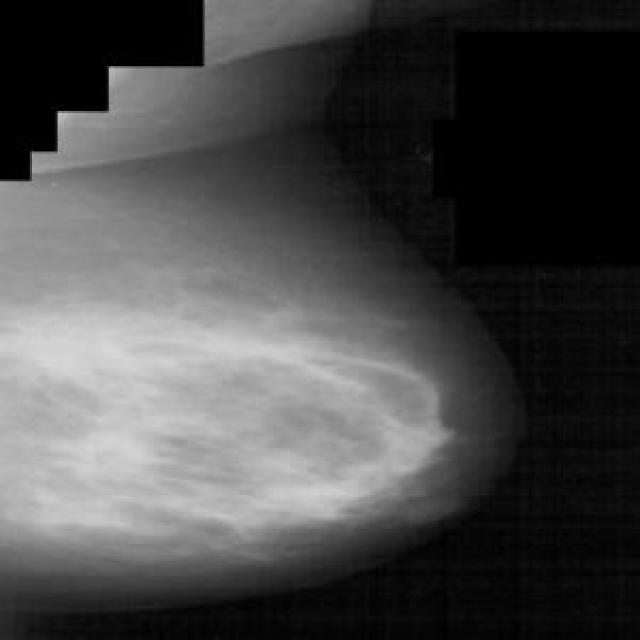tumor: (75, 310, 452, 536)
